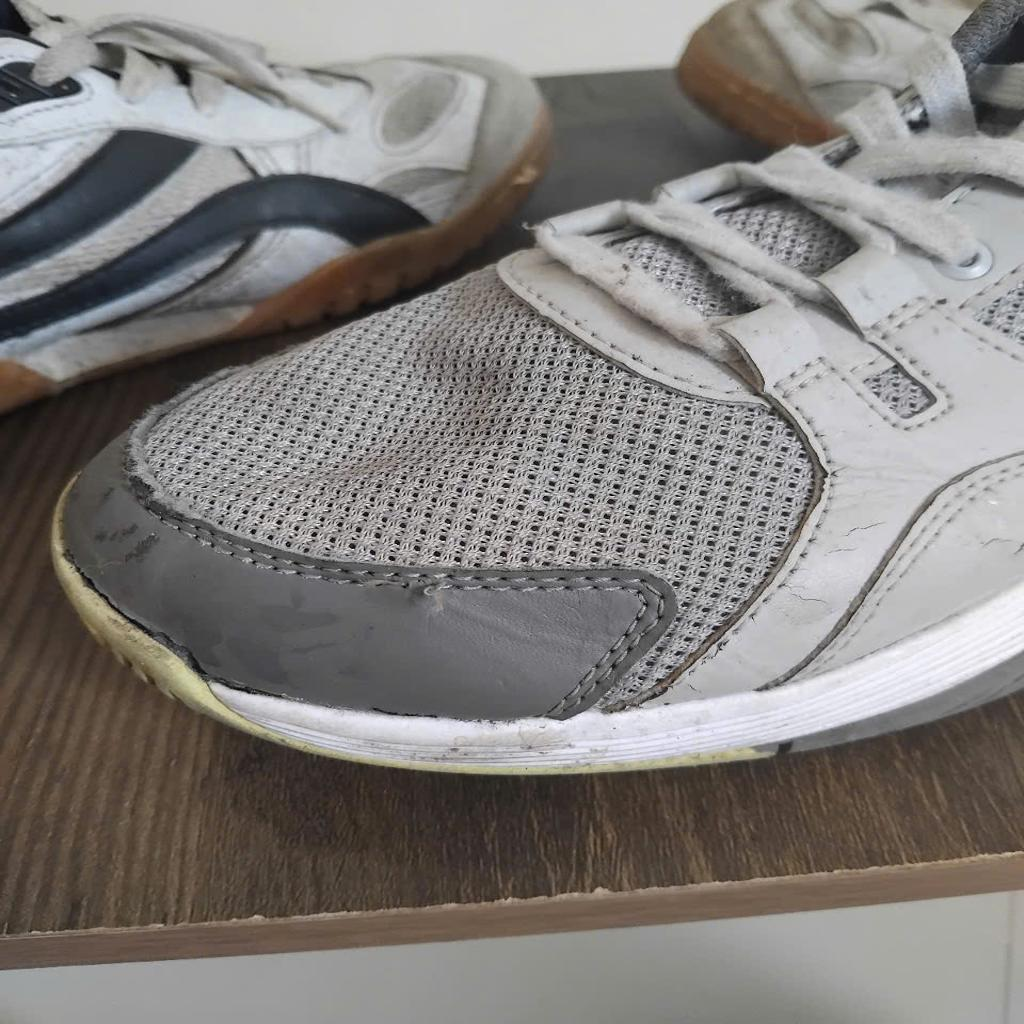broken: (361, 575, 448, 618)
